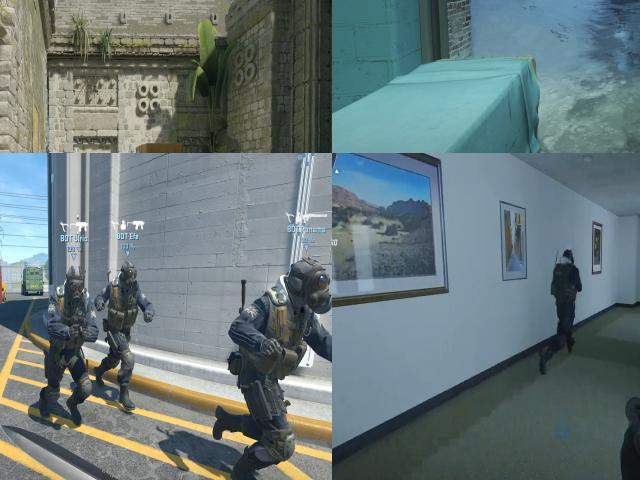CT: (237, 251, 332, 474), (43, 264, 95, 409), (102, 257, 144, 410), (547, 241, 587, 324)
CT-Head: (282, 259, 331, 311), (64, 266, 86, 298), (120, 259, 138, 288), (558, 244, 577, 267)
